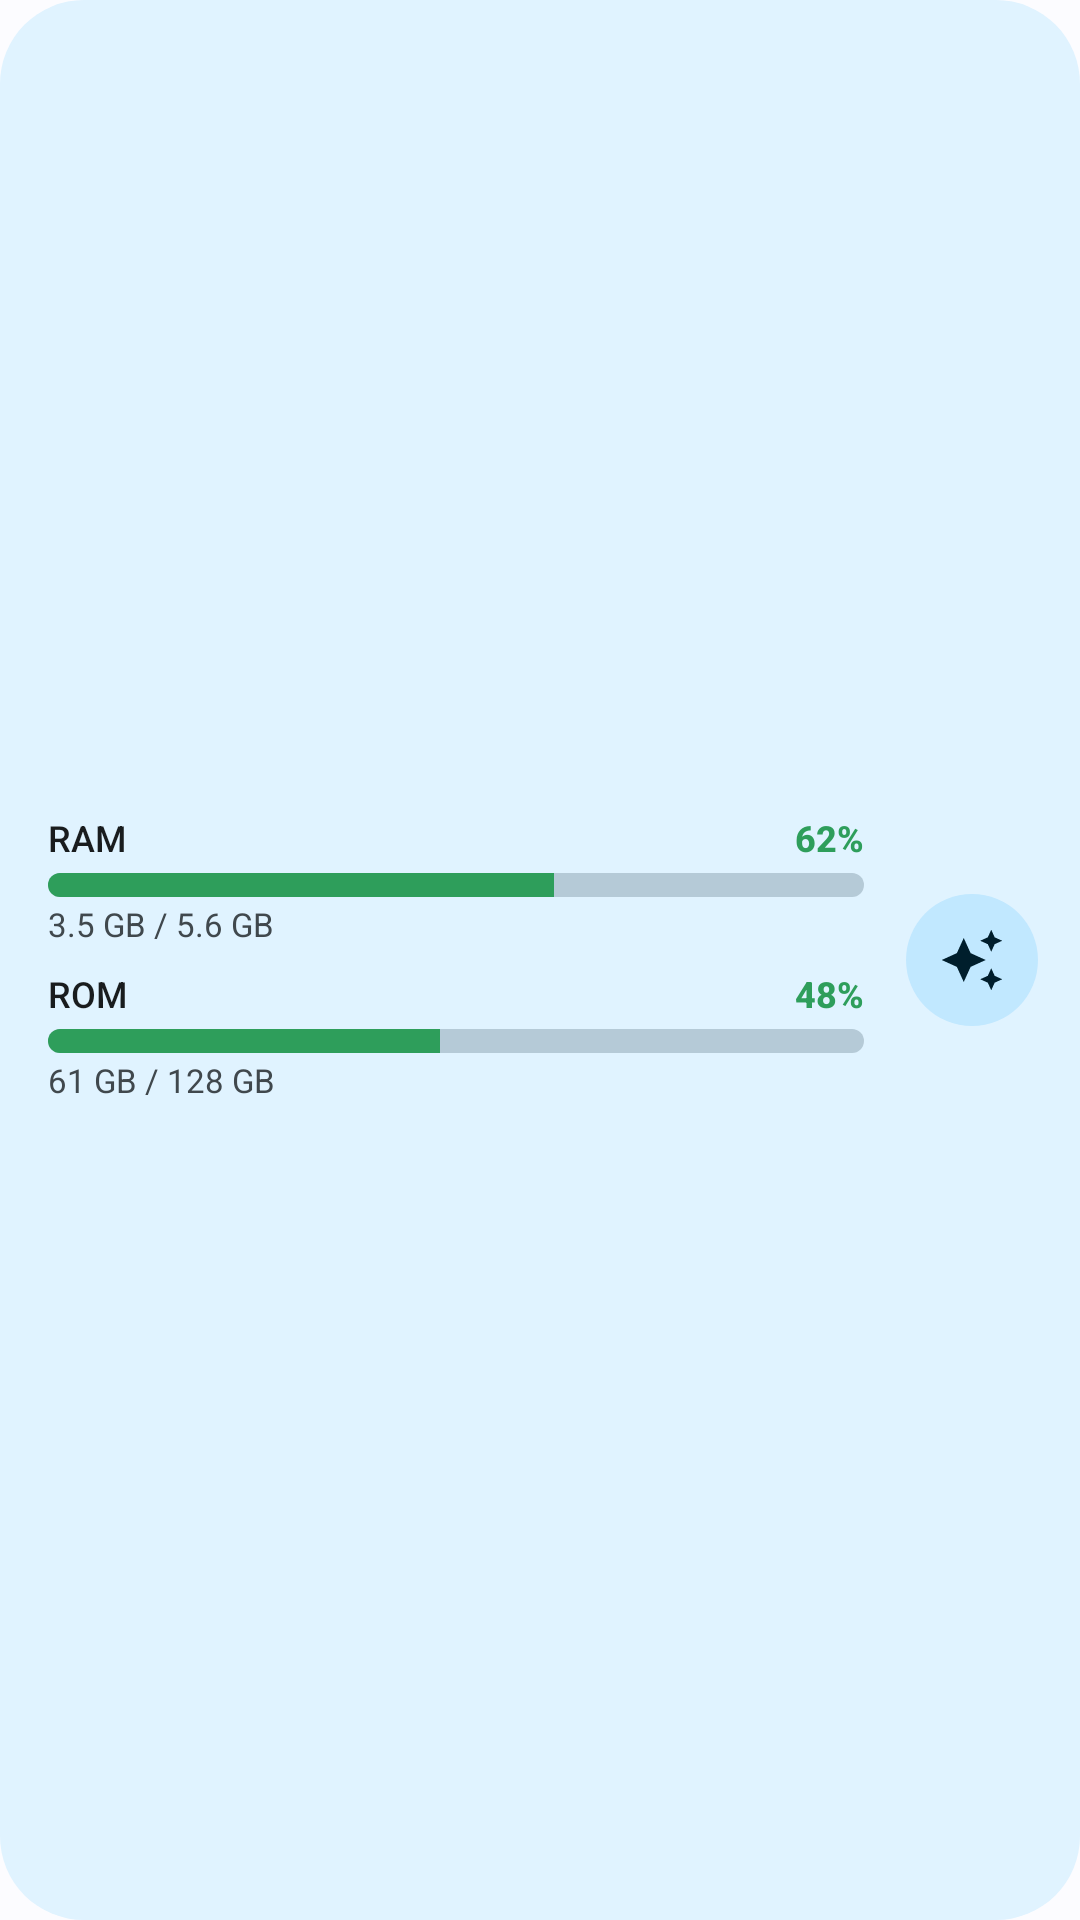

Point at icon controls on the screen. Image size 1080x1920, points as point (x, y).
clean: point (972, 960)
